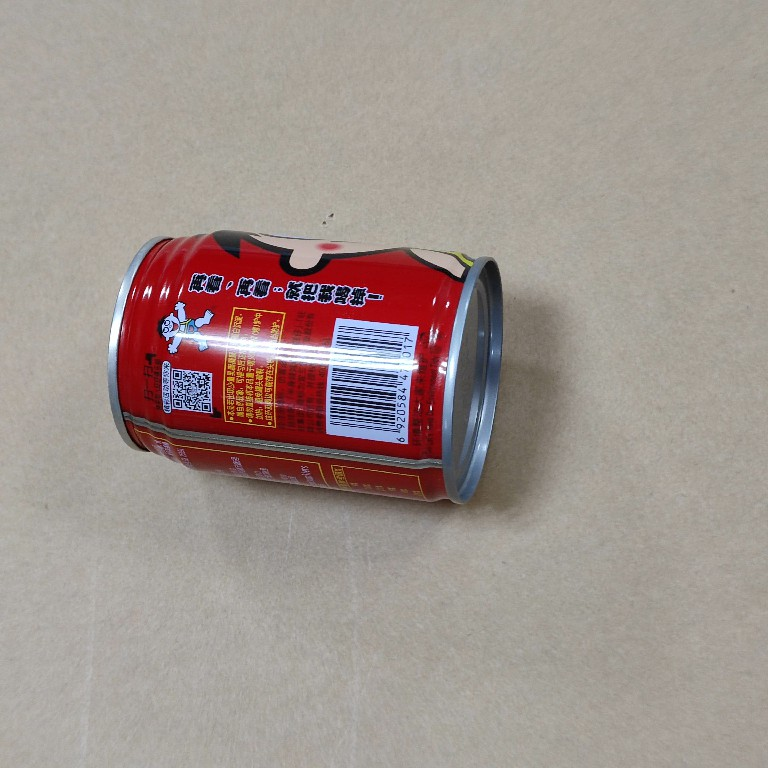can: (98, 231, 510, 509)
